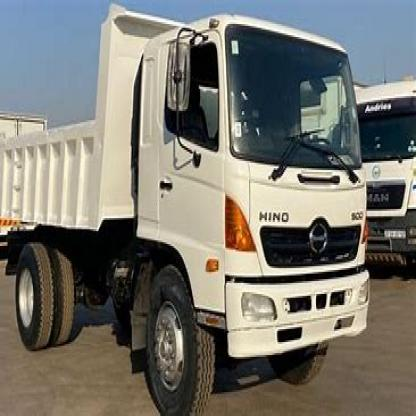dump_truck: (3, 0, 373, 412)
